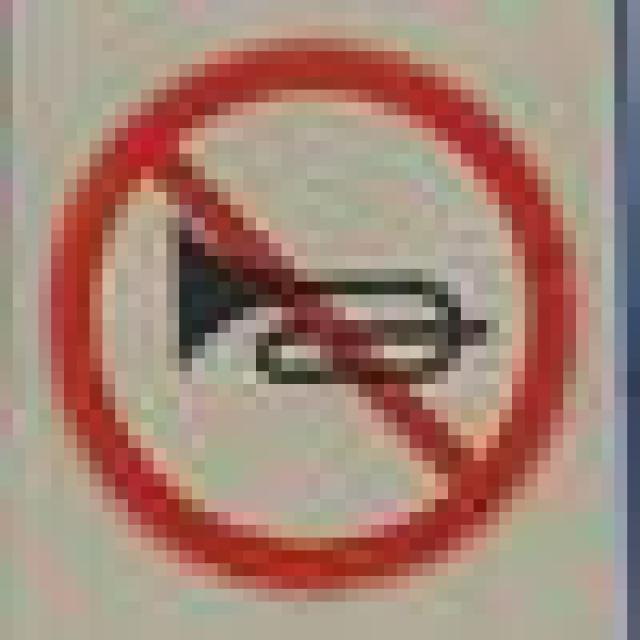horn prohibited: (33, 27, 596, 602)
